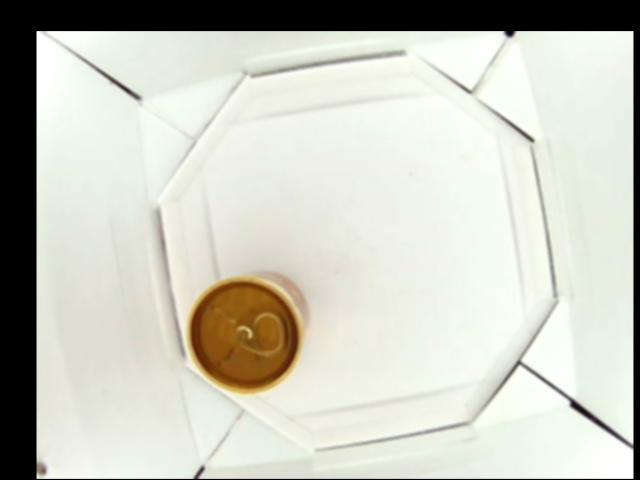Bottle: (188, 272, 307, 393)
